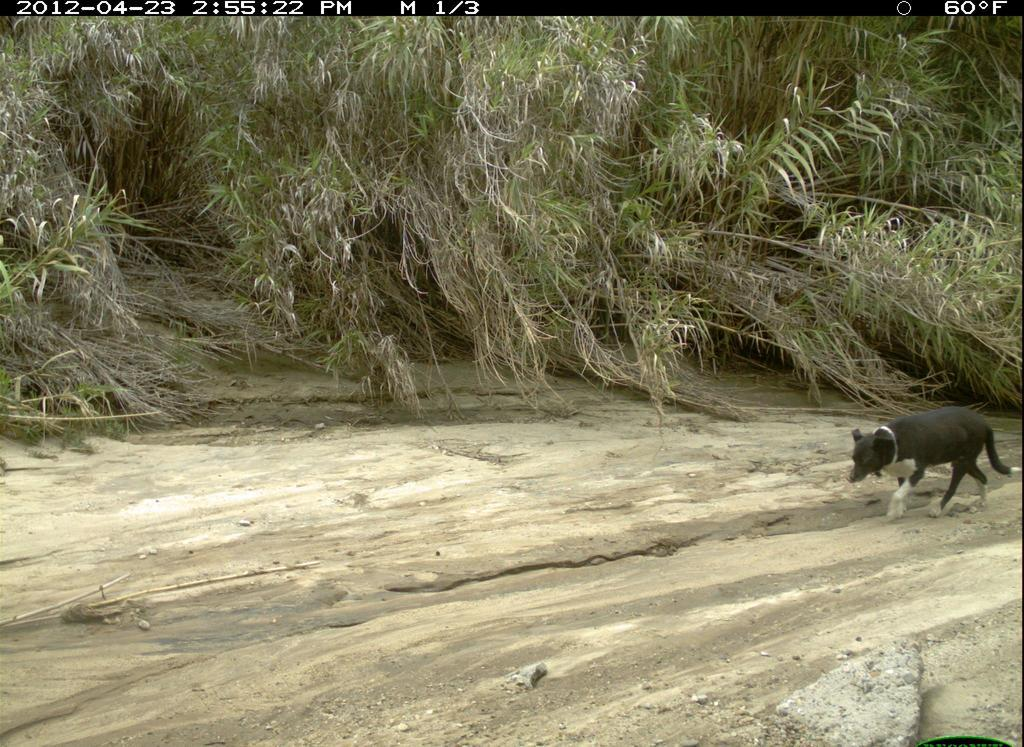dog: (833, 393, 1023, 536)
